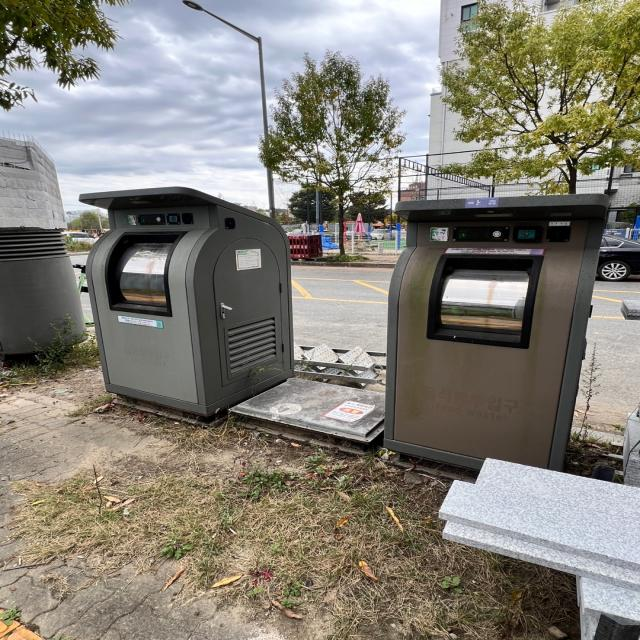CleanNet: (384, 190, 618, 479), (62, 180, 311, 424)
